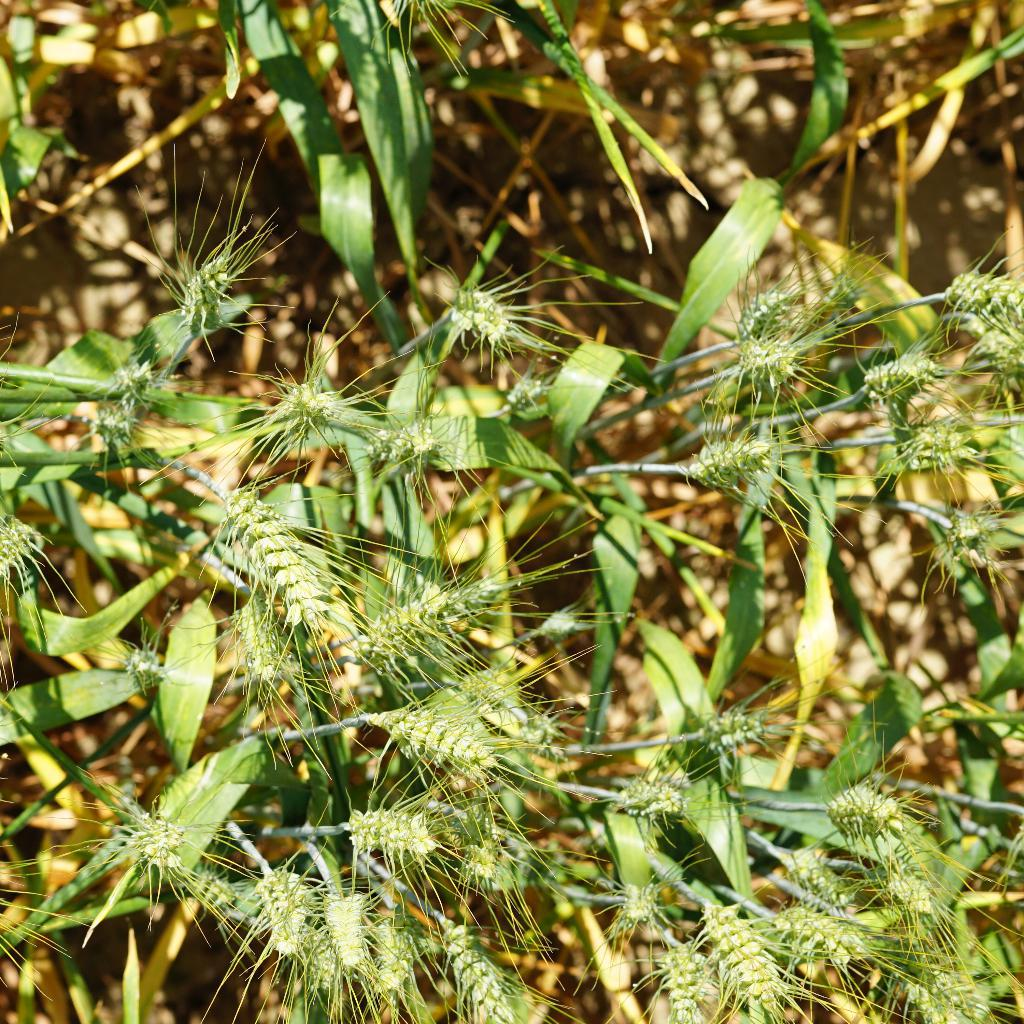0-0: (210, 478, 339, 632), (692, 881, 787, 1005), (365, 692, 496, 777), (434, 912, 515, 1024), (871, 404, 985, 477), (175, 236, 245, 351), (892, 948, 997, 1024), (766, 896, 864, 975), (671, 437, 791, 500), (215, 571, 286, 677), (354, 578, 448, 658), (676, 697, 799, 751), (444, 281, 537, 351), (103, 806, 190, 879), (934, 260, 1024, 330), (796, 855, 888, 923), (934, 496, 1005, 583), (335, 806, 434, 864), (721, 283, 811, 346), (284, 918, 352, 1001), (271, 377, 362, 438), (650, 944, 719, 1024), (250, 869, 307, 964), (826, 769, 904, 838), (324, 882, 381, 976), (432, 559, 514, 623), (453, 814, 519, 892), (468, 673, 552, 732), (875, 854, 944, 925), (169, 855, 242, 922), (591, 873, 666, 938), (856, 351, 949, 402), (115, 638, 175, 713), (373, 411, 453, 467), (373, 911, 415, 1004), (617, 770, 690, 823), (725, 339, 800, 387), (961, 328, 1024, 383), (0, 505, 45, 580), (538, 601, 598, 654), (514, 694, 572, 743), (503, 370, 556, 423), (86, 402, 145, 449), (108, 358, 153, 395)
